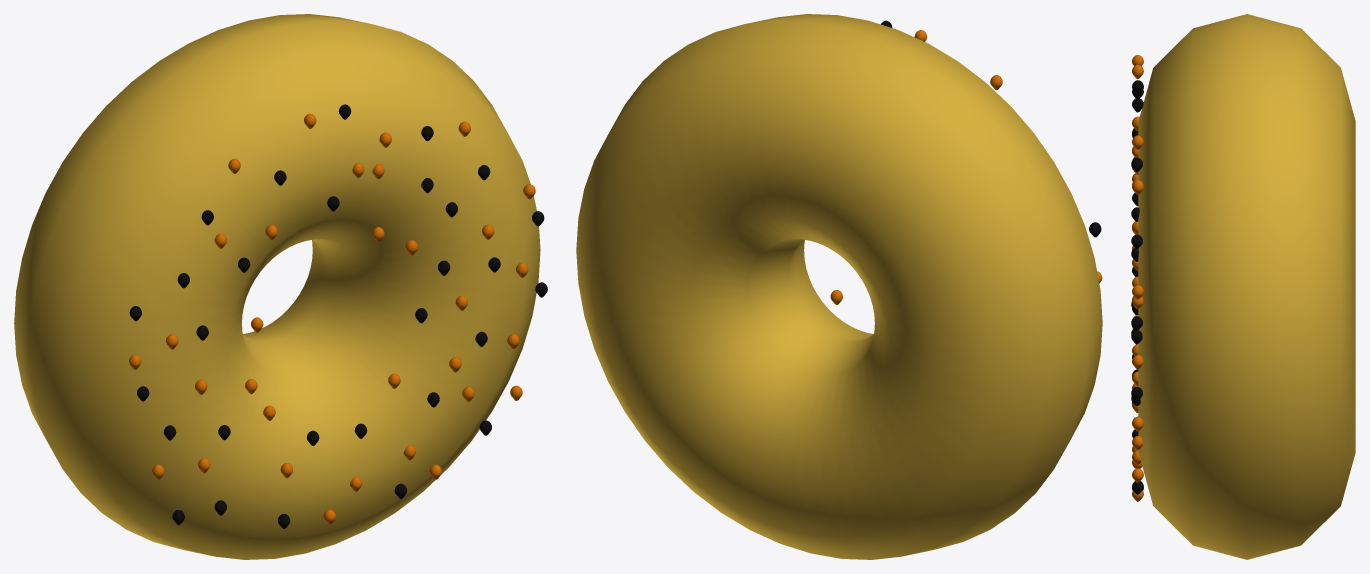
The model's file is bagel.fbx.
3 views of the same model, side by side, from view 1: azimuth 30°, elevation 25°; view 2: azimuth 150°, elevation 25°; view 3: azimuth 270°, elevation 25° (orthographic). The views are drawn at different scales.
Visible parts, largest first — view 1: Torus; view 2: Torus; view 3: Torus.
Part boxes in pixels (bbox=[...]): Torus: bbox=[14, 14, 547, 559]; Torus: bbox=[576, 14, 1102, 559]; Torus: bbox=[1131, 14, 1355, 559].
Size of the model in its own units: 332 by 332 by 137.
